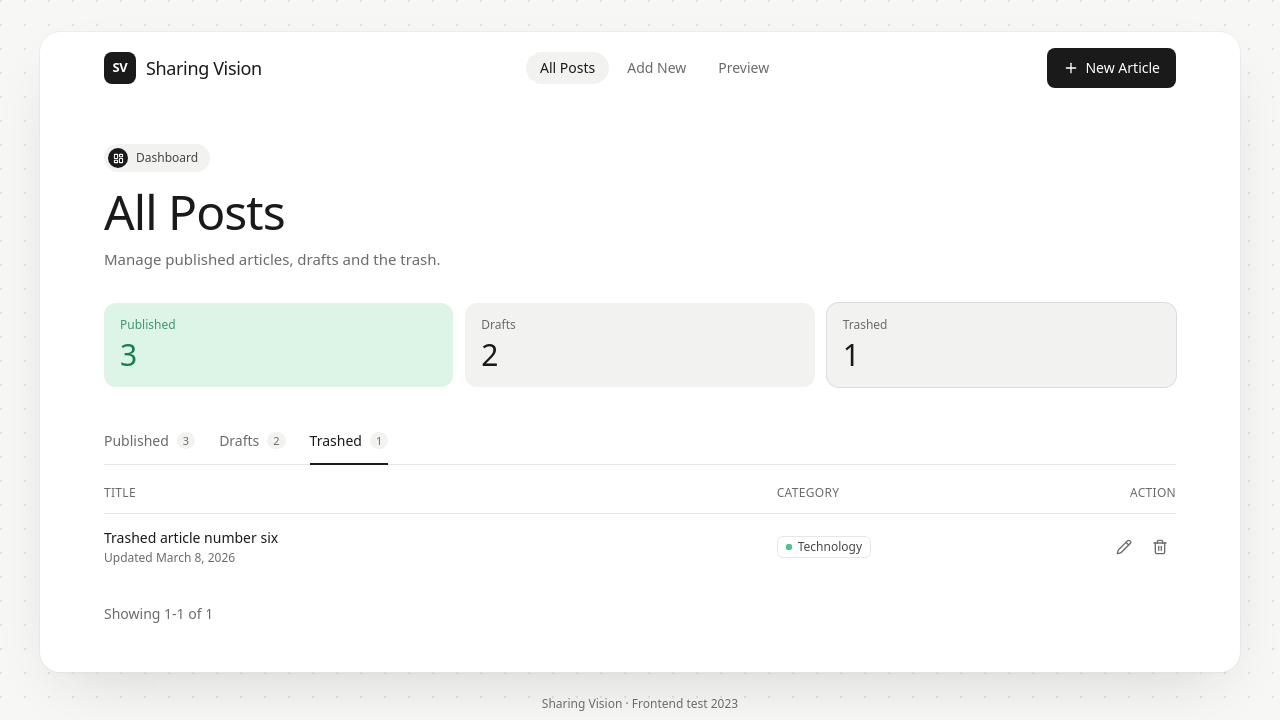
Test case: All Posts page › asks for confirmation in the Trashed tab and sends nothing on Cancel
The image size is (1280, 720).
What coordinates should you click on to do the following:
click the button named "Delete permanently"
I would click on:
 (1160, 546)
Its box is [1144, 530, 1176, 562].
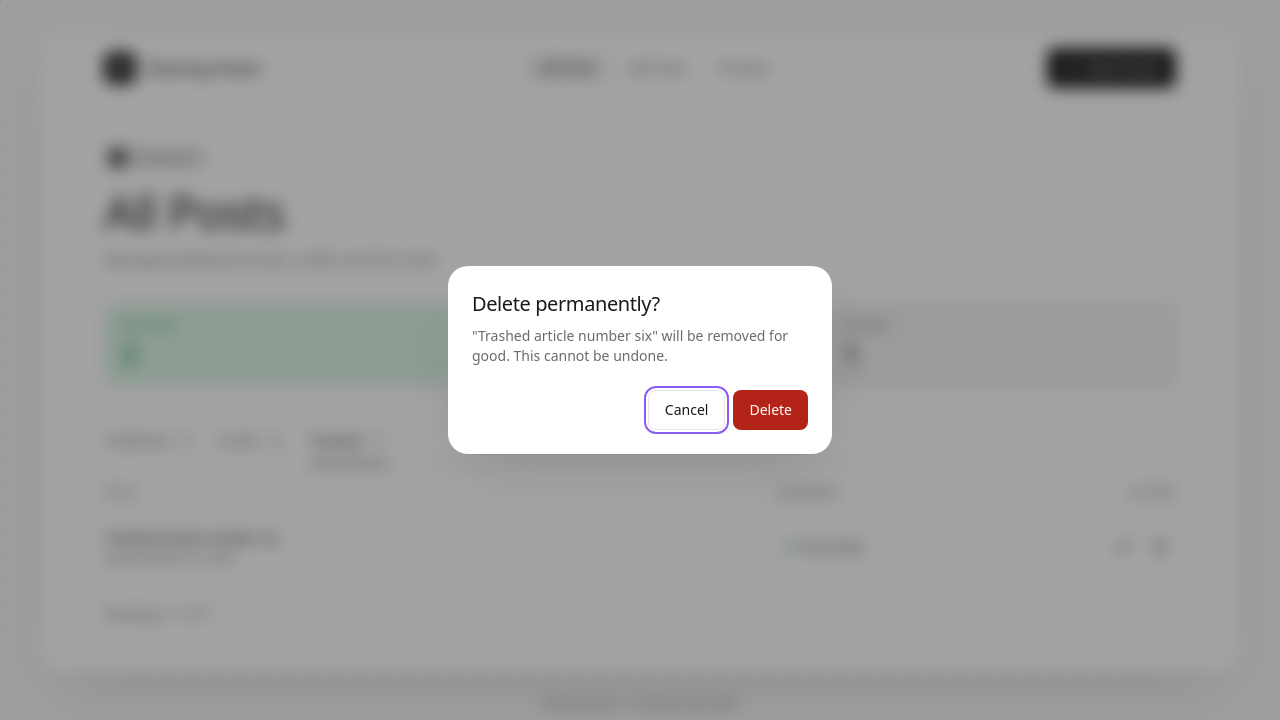
Result: the dialog "Delete permanently?" shows "Trashed article number six" at [472, 326, 788, 365]
What coordinates should you click on to do the following:
click the button "Cancel"
I would click on:
 (687, 410)
Its box is [648, 390, 725, 430].
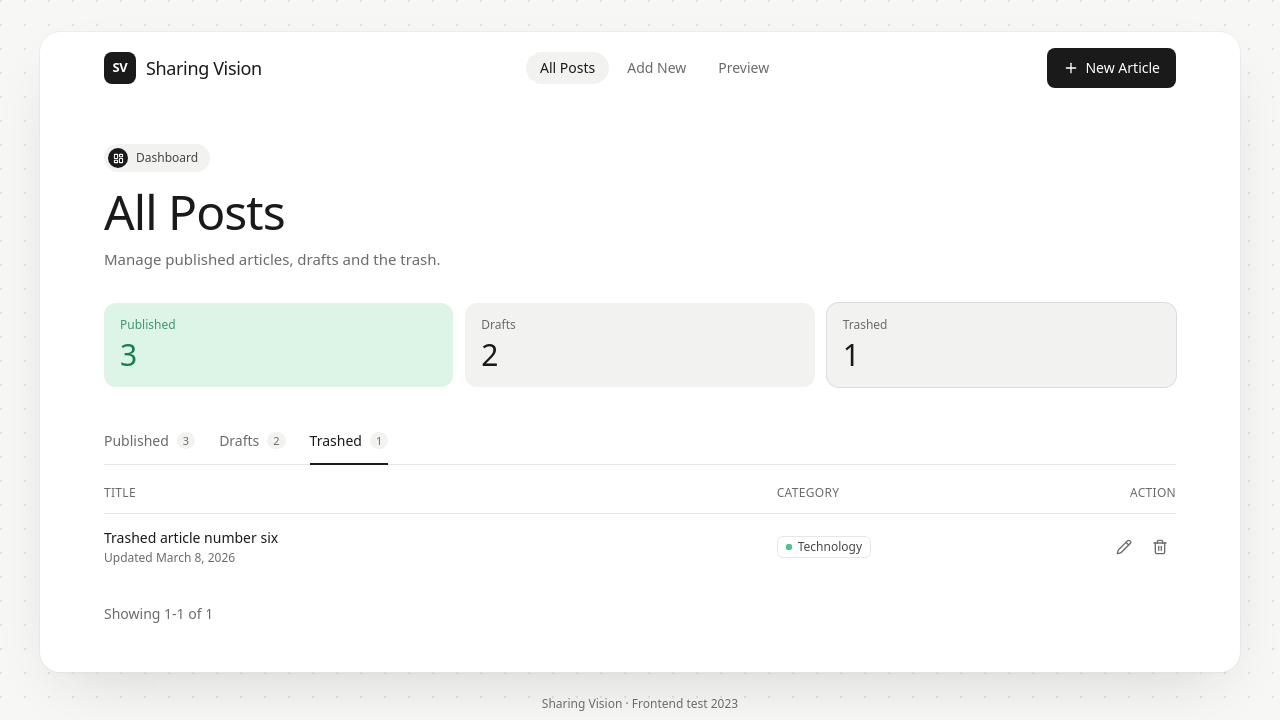
Result: the dialog is gone
